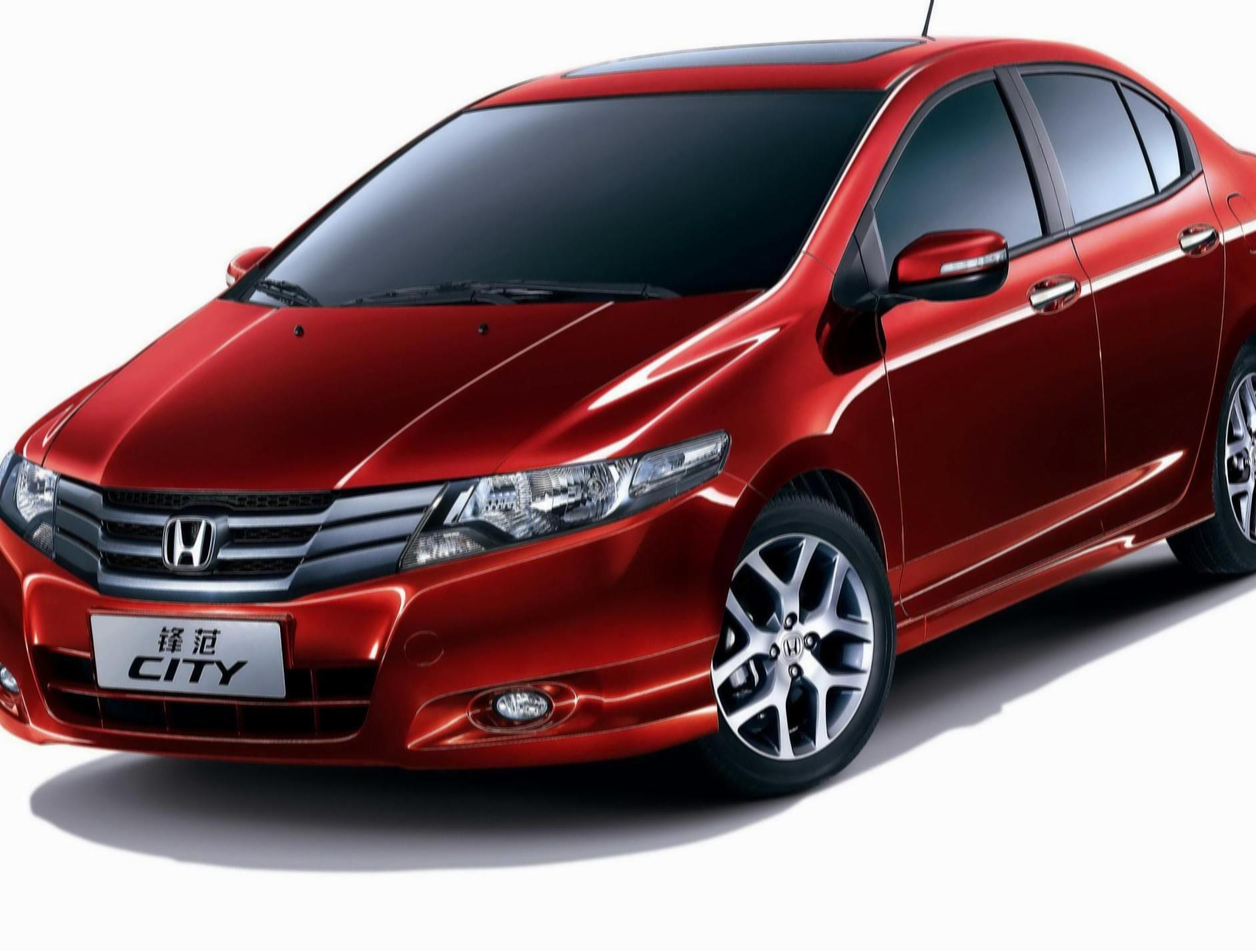Car hood: (44, 252, 784, 488)
Fender - -F-L-: (650, 222, 924, 668)
Front bumper: (0, 480, 774, 780)
Headlight - -L-: (393, 429, 730, 596)
Headlight - -R-: (0, 442, 60, 565)
Passenger-s door - -F-L-: (859, 34, 1127, 675)
Passenger-s door - -R-L-: (1009, 22, 1233, 588)
Side bumper - -L-: (873, 446, 1229, 728)
Side mirror - -L-: (852, 225, 1007, 342)
Side mirror - -R-: (216, 242, 277, 309)
